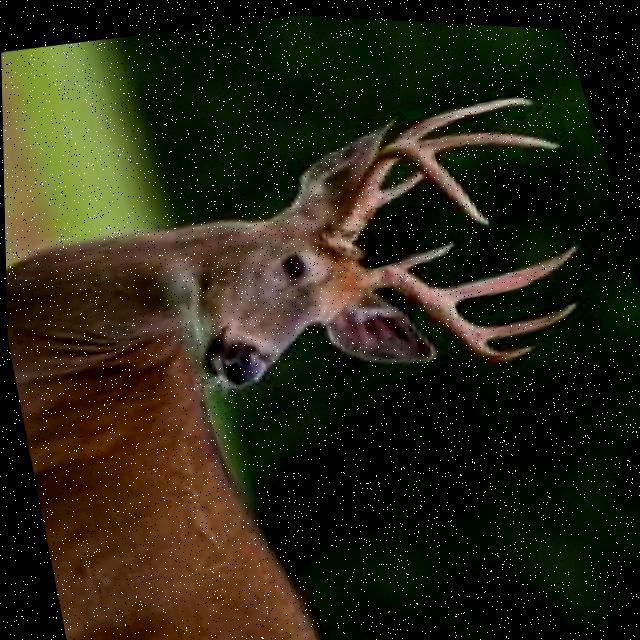L-F: (318, 138, 489, 252)
L-G1: (376, 167, 420, 202)
L-G2: (390, 90, 534, 138)
L-G3: (419, 126, 560, 149)
R-F: (360, 259, 533, 358)
R-G1: (388, 236, 453, 266)
R-G2: (438, 237, 577, 299)
R-G3: (471, 295, 575, 336)
